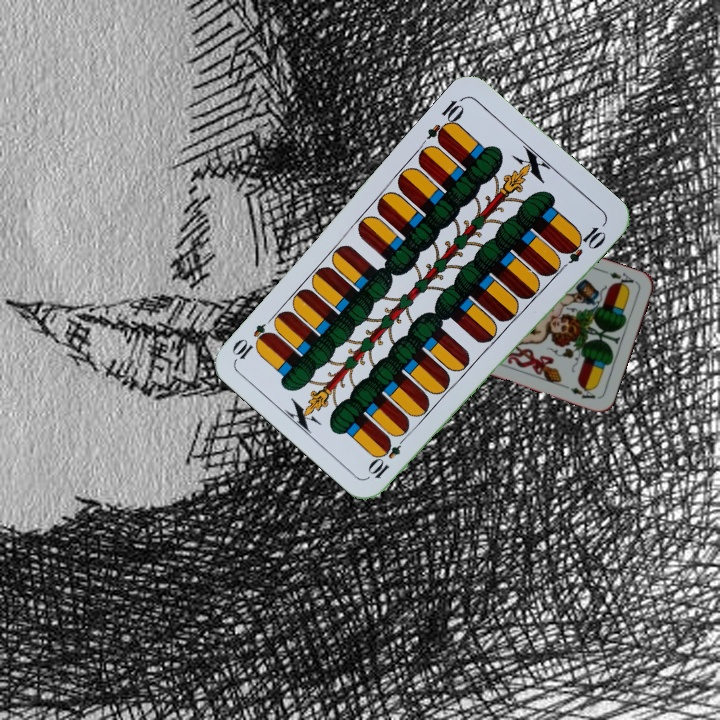E10: (423, 93, 468, 147), (365, 429, 410, 482)
EA: (600, 266, 639, 291)
